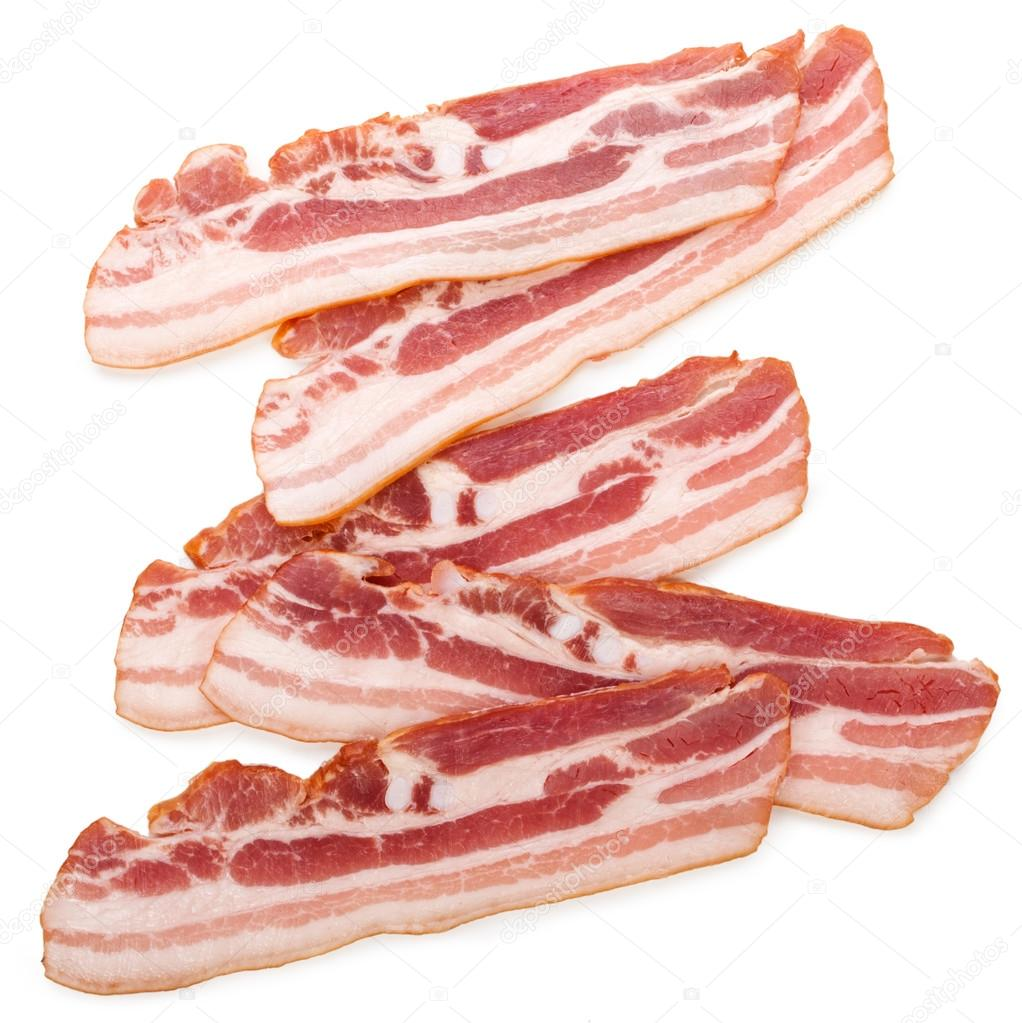Bacon: (115, 482, 1016, 839), (79, 693, 778, 1013), (284, 112, 796, 537), (106, 53, 792, 304)
